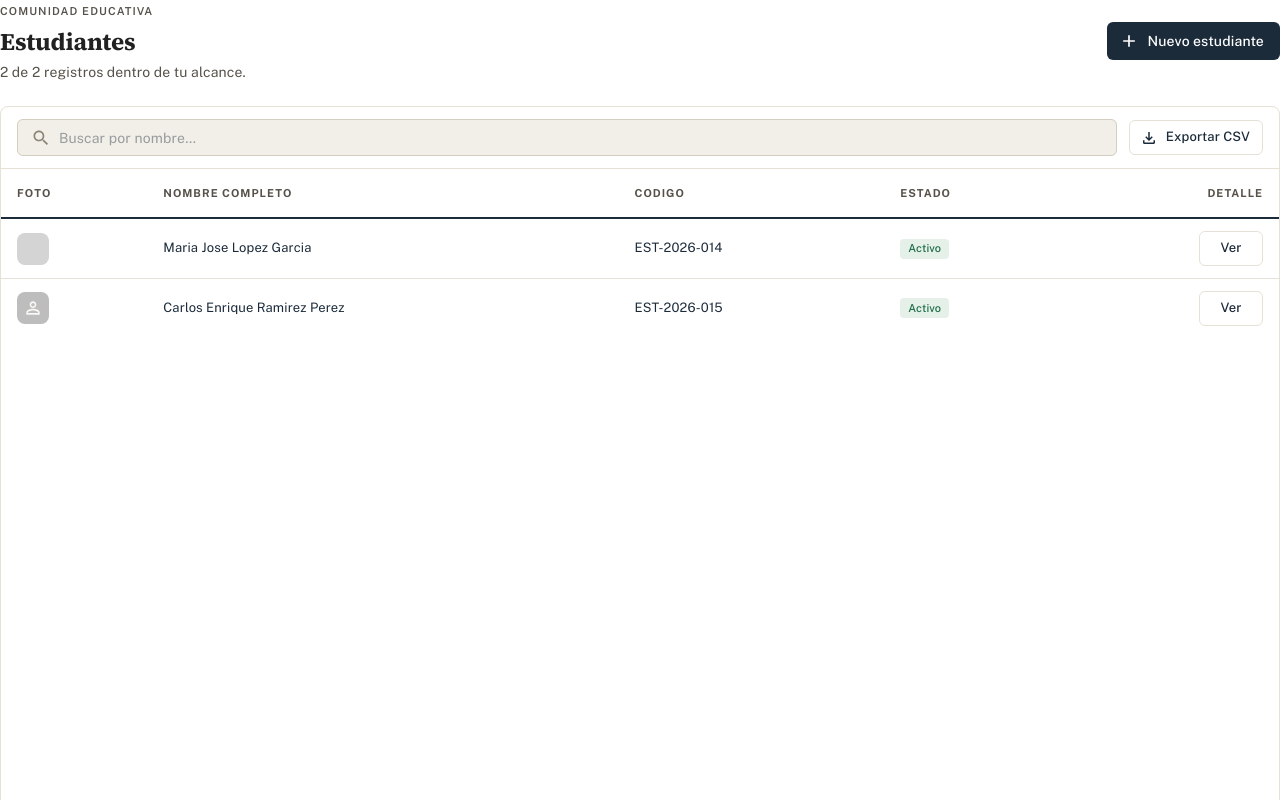
Test case: AlumnosPage › edits a student via the detail panel
The image size is (1280, 800).
Expected: the text "Maria Jose Lopez Garcia" is shown, x1=147 y1=219 x2=619 y2=279
Click the button with aria-label "Ver detalle": point(1231, 249) x1=1199 y1=231 x2=1263 y2=266
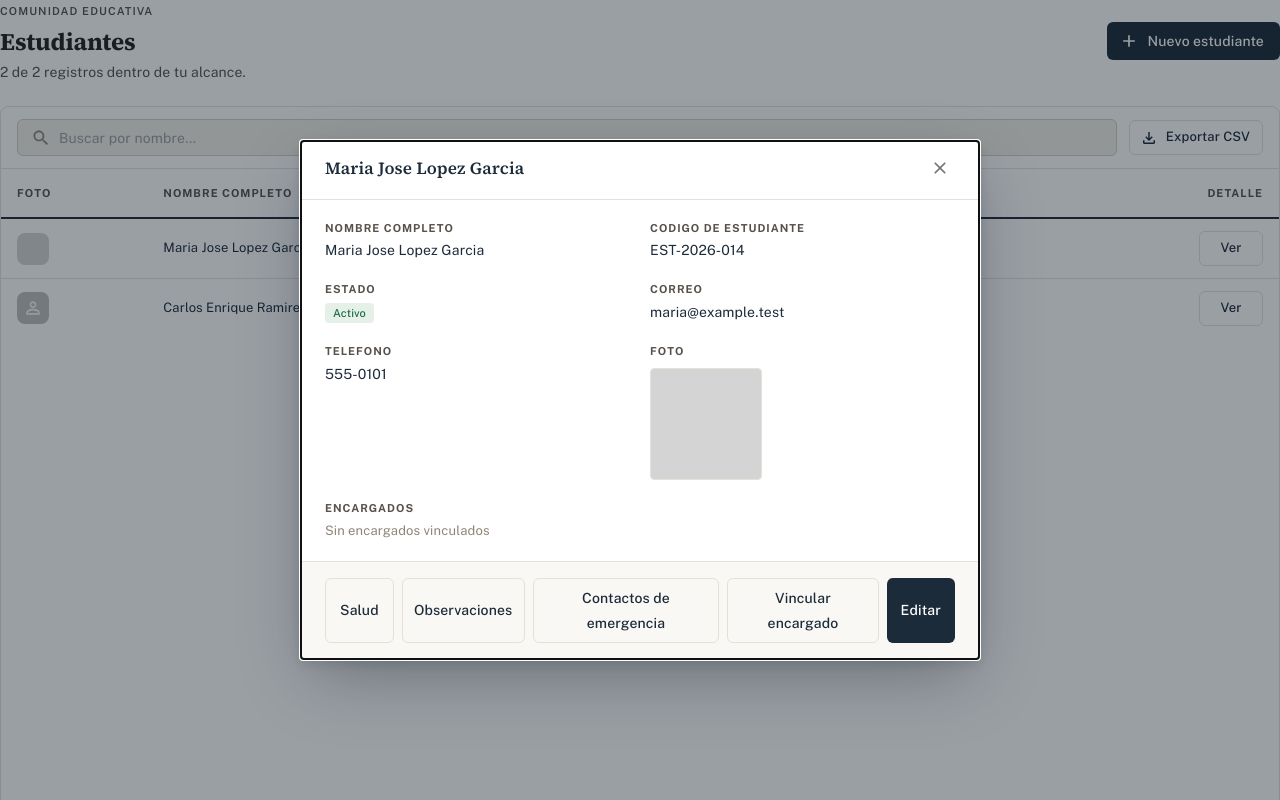
Click the button "Editar": point(921, 611) x1=887 y1=578 x2=955 y2=643
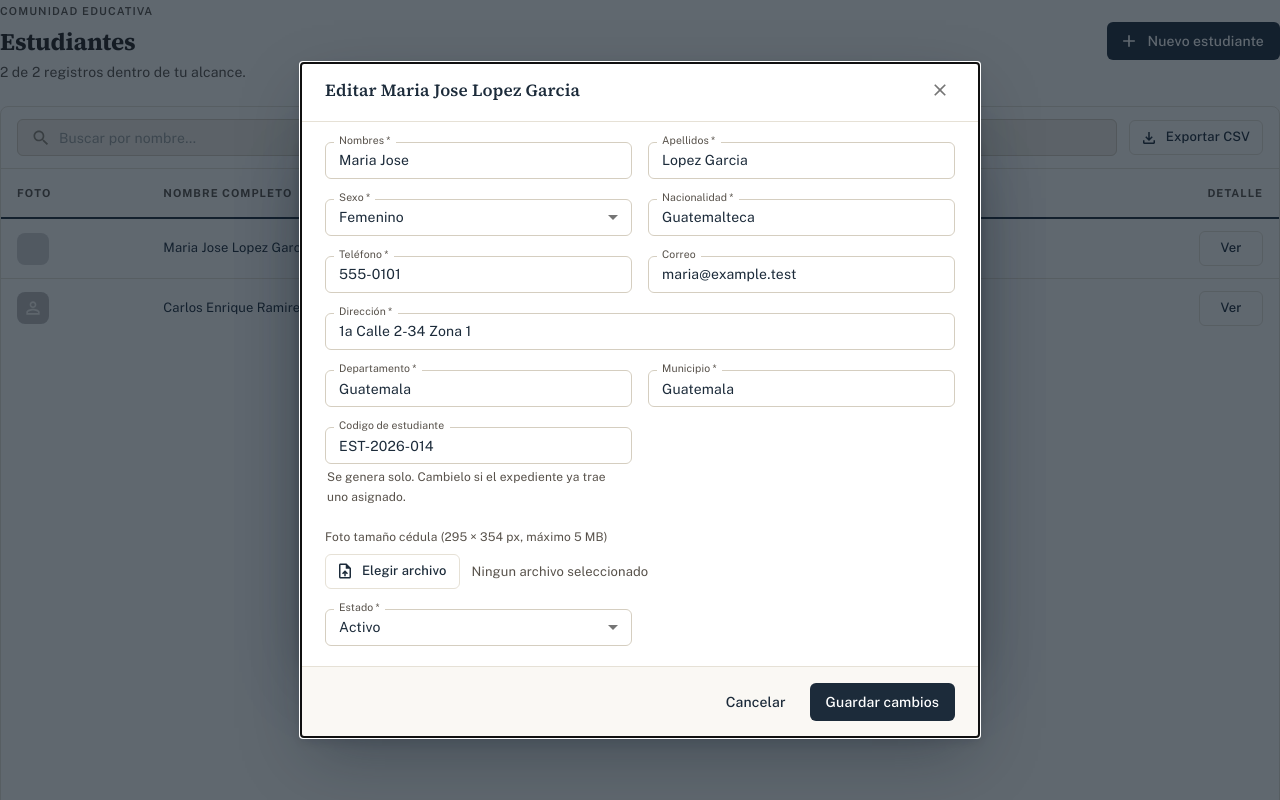
Now the field labelled "Apellidos *" holds "Lopez Garcia"
Replace the text in the field labelled "Apellidos *" with "Lopez Mendez": point(802, 160) x1=648 y1=142 x2=955 y2=179
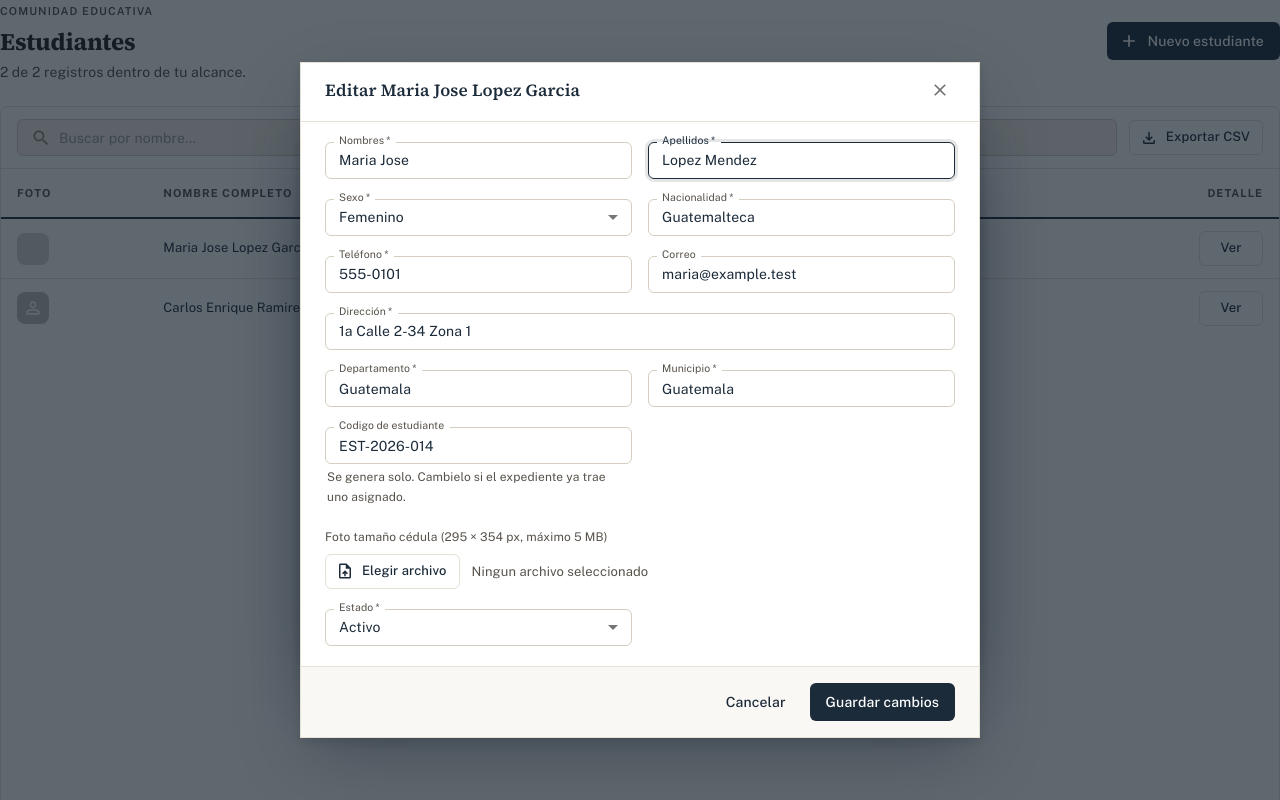
Click the button "Guardar cambios": point(882, 702) x1=810 y1=683 x2=955 y2=722
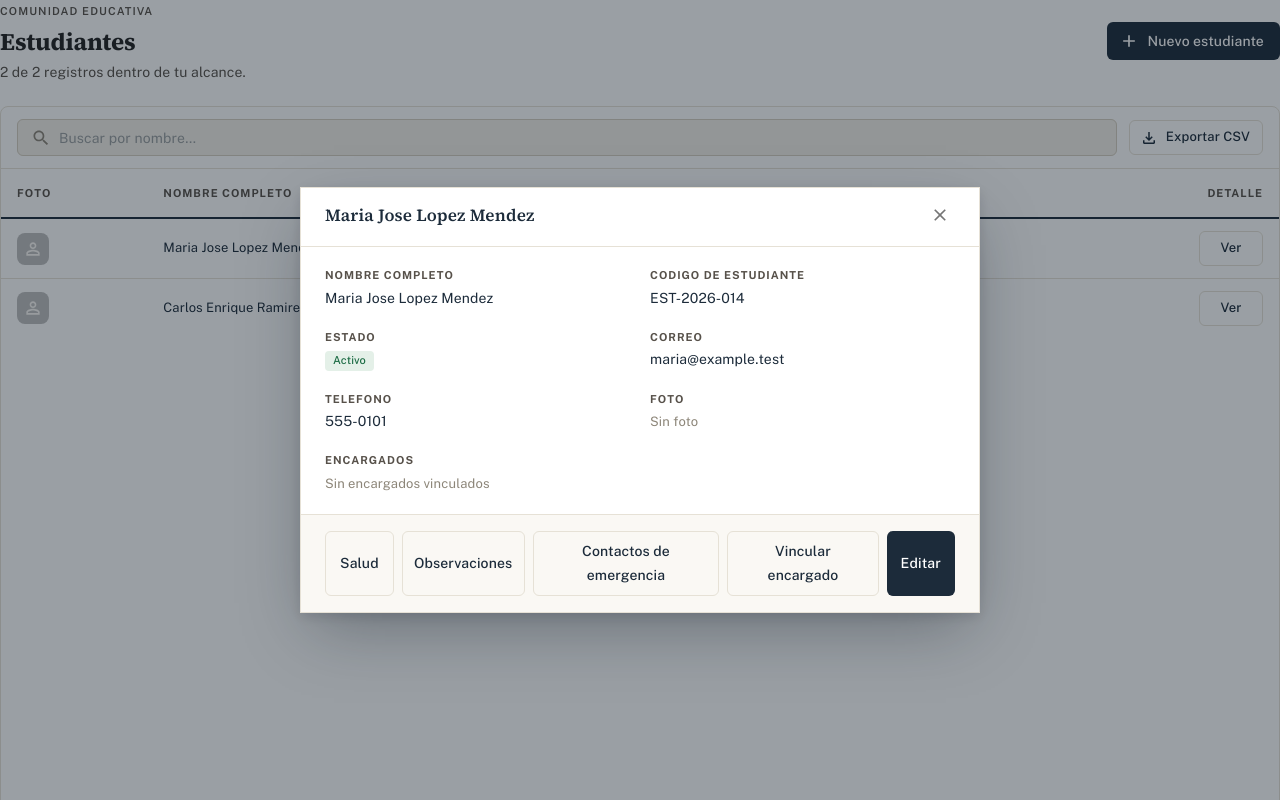
Now the heading "Maria Jose Lopez Mendez" is shown, box x1=325 y1=204 x2=535 y2=227
